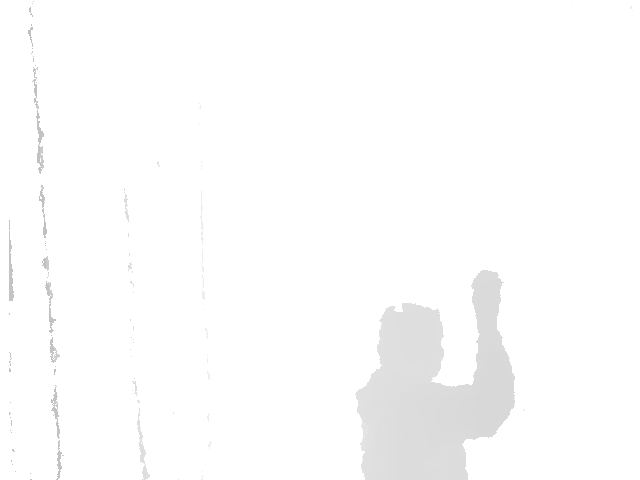hand: (469, 265, 509, 338)
head: (375, 300, 448, 383)
person: (354, 265, 518, 480)
